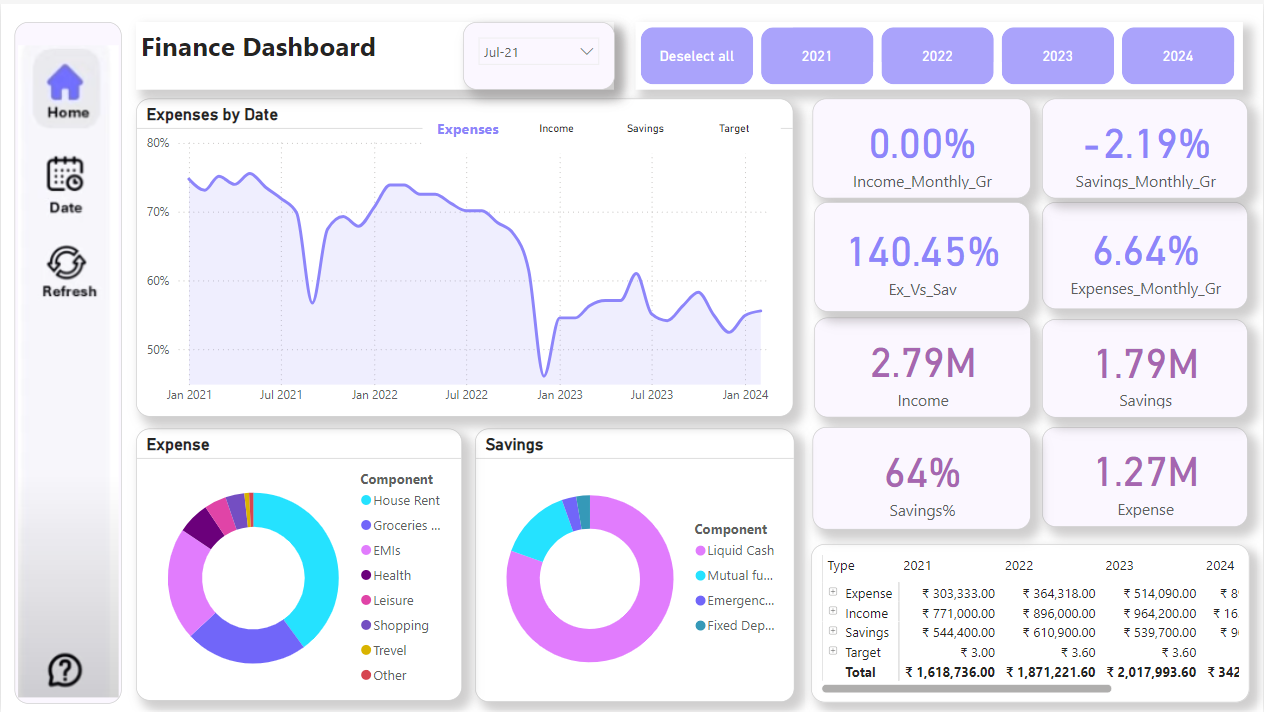

The page's visual inventory and layout, read from the dashboard file:
{"tool":"powerbi","page":{"name":"Page 1","canvas":[1280,720],"ordinal":0},"visuals":[{"type":"card","fields":{"Values":["FinData.Income"]},"box":[823.8,317.5,220,101.2],"z":0},{"type":"card","fields":{"Values":["FinData.Expense"]},"box":[1056.2,428.8,208.8,101.2],"z":1000},{"type":"card","fields":{"Values":["FinData.Savings"]},"box":[1056.2,318.8,208.8,100],"z":2000},{"type":"card","fields":{"Values":["FinData.Savings%"]},"box":[822.5,428.8,221.2,103.8],"z":3000},{"type":"advancedSlicerVisual","fields":{"Values":["FinData.Date.Variation.Date Hierarchy.Year"]},"box":[643.6,17.8,616.1,68.6],"z":4000},{"type":"donutChart","title":"Savings","fields":{"Category":["FinData.Component"],"Y":["FinData.Savings"]},"box":[480.3,430.9,323.8,277.2],"z":5000},{"type":"donutChart","title":"Expense","fields":{"Category":["FinData.Component"],"Y":["FinData.Expense"]},"box":[137.2,430.9,330.7,275.8],"z":6000},{"type":"pivotTable","fields":{"Values":["FinData.Total_Value"],"Rows":["FinData.Type","FinData.Component"],"Columns":["FinData.Date.Variation.Date Hierarchy.Year"]},"box":[822,547.5,444.6,160.6],"z":7000},{"type":"areaChart","fields":{"Category":["FinData.Date.Variation.Date Hierarchy.Year","FinData.Date.Variation.Date Hierarchy.Month","FinData.Date.Variation.Date Hierarchy.Day"],"Y":["FinData.Line_Chart_Measures"]},"box":[137.2,96.1,666.9,322.5],"z":8000},{"type":"advancedSlicerVisual","fields":{"Values":["Line_Selection_Table.Type"]},"box":[428.1,105.7,363.6,46.7],"z":9000},{"type":"textbox","box":[137.2,17.8,484.4,68.6],"z":10000},{"type":"textbox","box":[13.7,17.8,108.4,691.6],"z":11000},{"type":"slicer","fields":{"Values":["Selected_Date.MonthYear"]},"box":[467.9,17.8,153.7,68.6],"z":12000},{"type":"card","fields":{"Values":["FinData.Expenses_Monthly_Gr"]},"box":[1056.2,201.2,208.8,108.8],"z":13000},{"type":"card","fields":{"Values":["FinData.Income_Monthly_Gr"]},"box":[822.5,96.2,221.2,101.2],"z":14000},{"type":"card","fields":{"Values":["FinData.Savings_Monthly_Gr"]},"box":[1056.2,96.2,208.8,101.2],"z":15000},{"type":"card","fields":{"Values":["FinData.Ex_Vs_Sav"]},"box":[825,201.2,218.8,111.2],"z":16000},{"type":"image","box":[0,37.1,137.1,671.4],"z":17000},{"type":"actionButton","title":"Show","box":[24.3,140,87.1,85.7],"z":18000},{"type":"actionButton","title":"Refresh","box":[18.8,237.5,100,72.5],"z":20000}]}

Visuals, with their boxes on the page's 1280x720 design canvas (x1, y1, x2, y2). These are canvas units, not pixel positions in the 1264x712 screenshot, which may show the page scaled, cropped or inside an application window:
card - FinData.Income: 824/318/1044/419
card - FinData.Expense: 1056/429/1265/530
card - FinData.Savings: 1056/319/1265/419
card - FinData.Savings%: 822/429/1044/533
advancedSlicerVisual - FinData.Date.Variation.Date Hierarchy.Year: 644/18/1260/86
"Savings" donutChart: 480/431/804/708
"Expense" donutChart: 137/431/468/707
pivotTable - FinData.Total_Value x FinData.Type: 822/548/1267/708
areaChart - FinData.Date.Variation.Date Hierarchy.Year x FinData.Date.Variation.Date Hierarchy.Month: 137/96/804/419
advancedSlicerVisual - Line_Selection_Table.Type: 428/106/792/152
textbox: 137/18/622/86
textbox: 14/18/122/709
slicer - Selected_Date.MonthYear: 468/18/622/86
card - FinData.Expenses_Monthly_Gr: 1056/201/1265/310
card - FinData.Income_Monthly_Gr: 822/96/1044/197
card - FinData.Savings_Monthly_Gr: 1056/96/1265/197
card - FinData.Ex_Vs_Sav: 825/201/1044/312
image: 0/37/137/708
"Show" actionButton: 24/140/111/226
"Refresh" actionButton: 19/238/119/310
